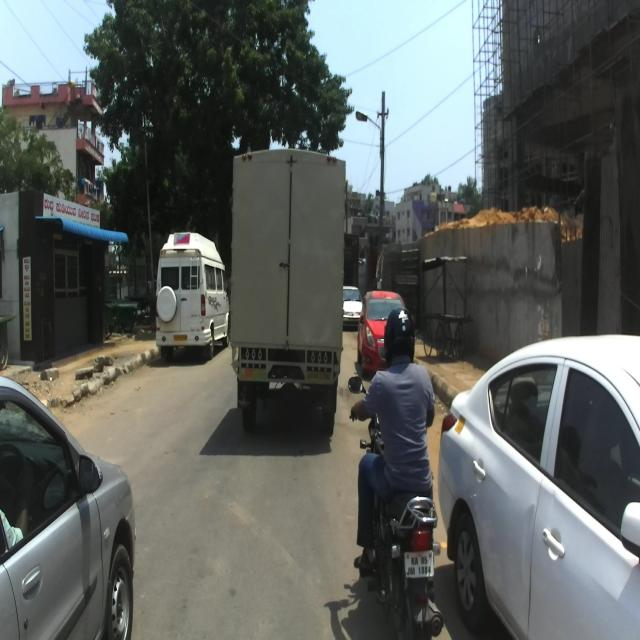Car_TATA: (0, 371, 139, 639), (341, 284, 363, 329)
Car_Toyota: (435, 331, 640, 639)
mini-bus: (154, 230, 230, 360)
motorcycle_Hero: (346, 374, 444, 640)
truck: (229, 146, 346, 432)
